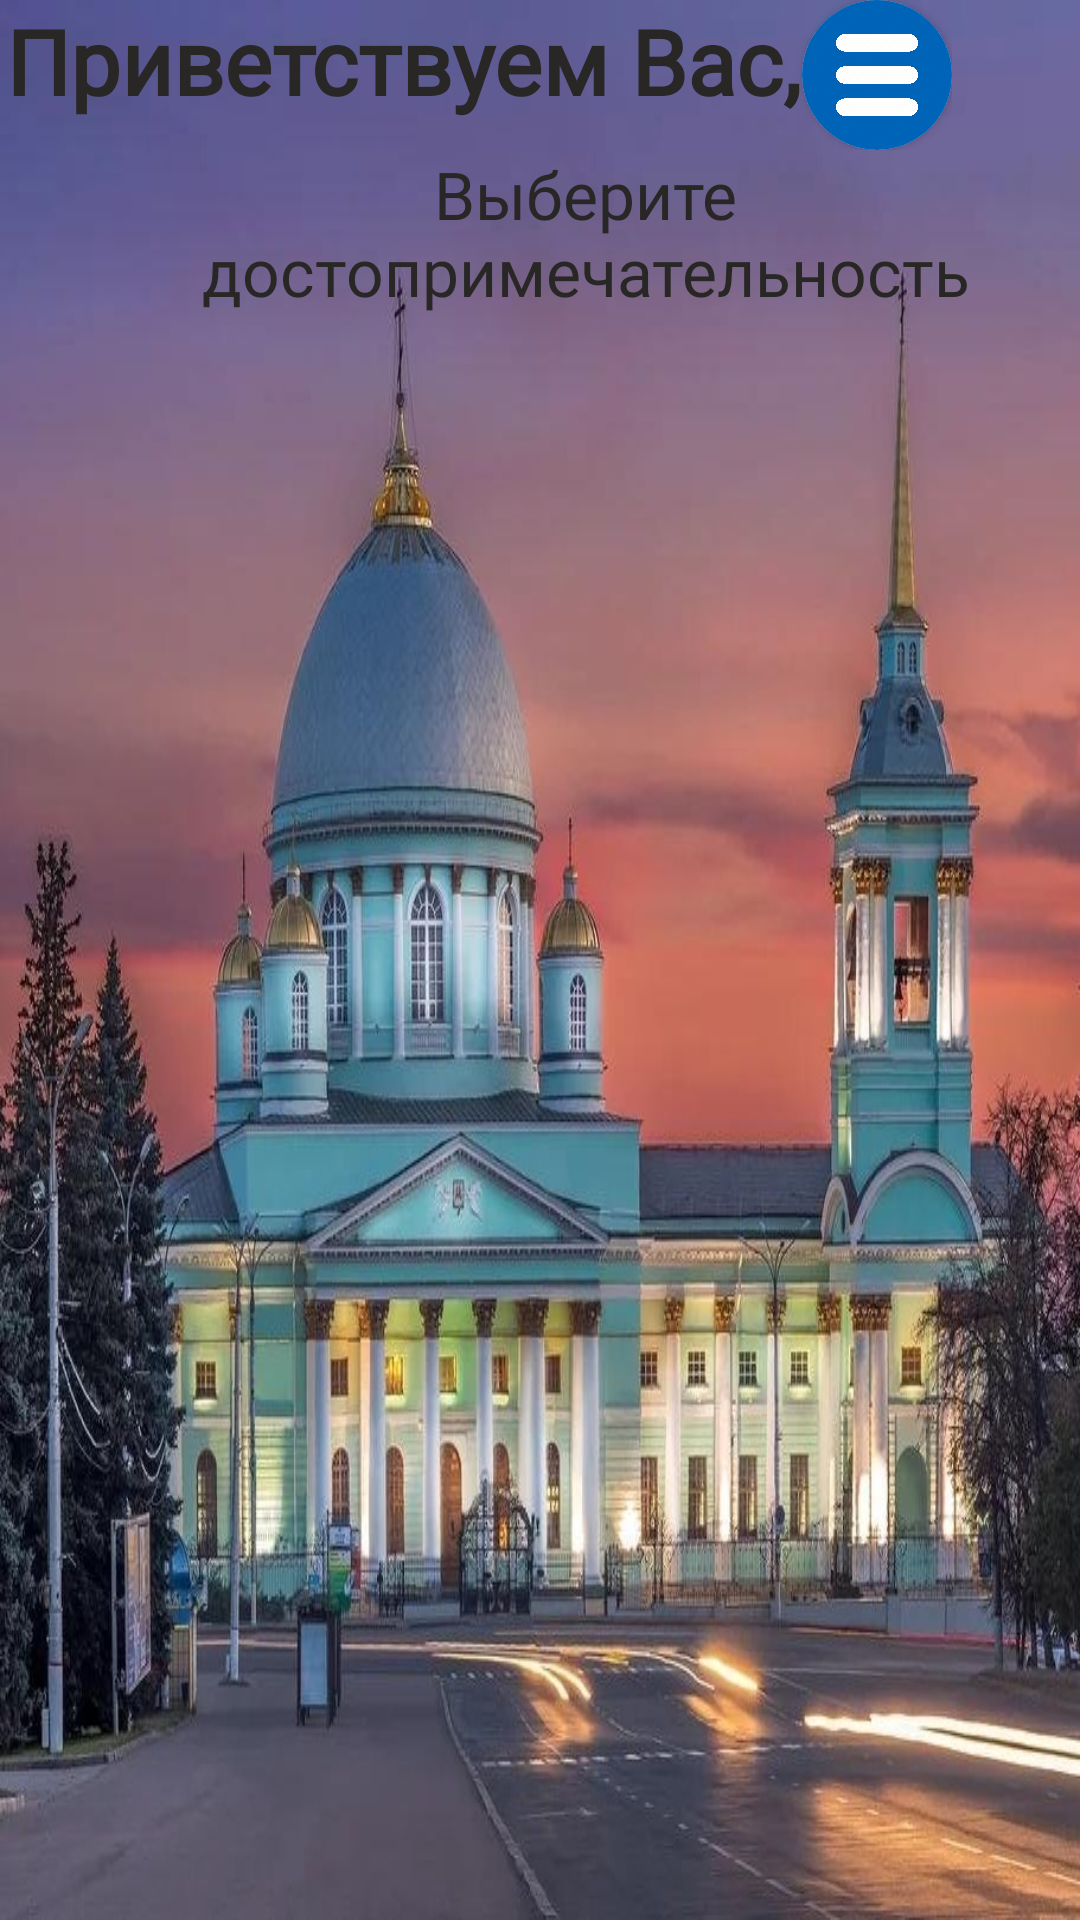

Icon bounding boxes for this 1080px×1920px phone screenshot, format (x1, y1, x2, y2):
menu: (802, 0, 952, 150)
